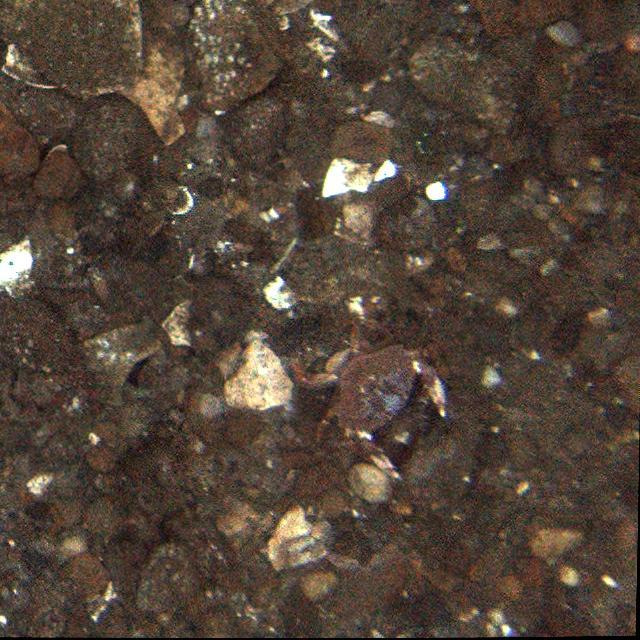crab: (290, 333, 452, 446)
